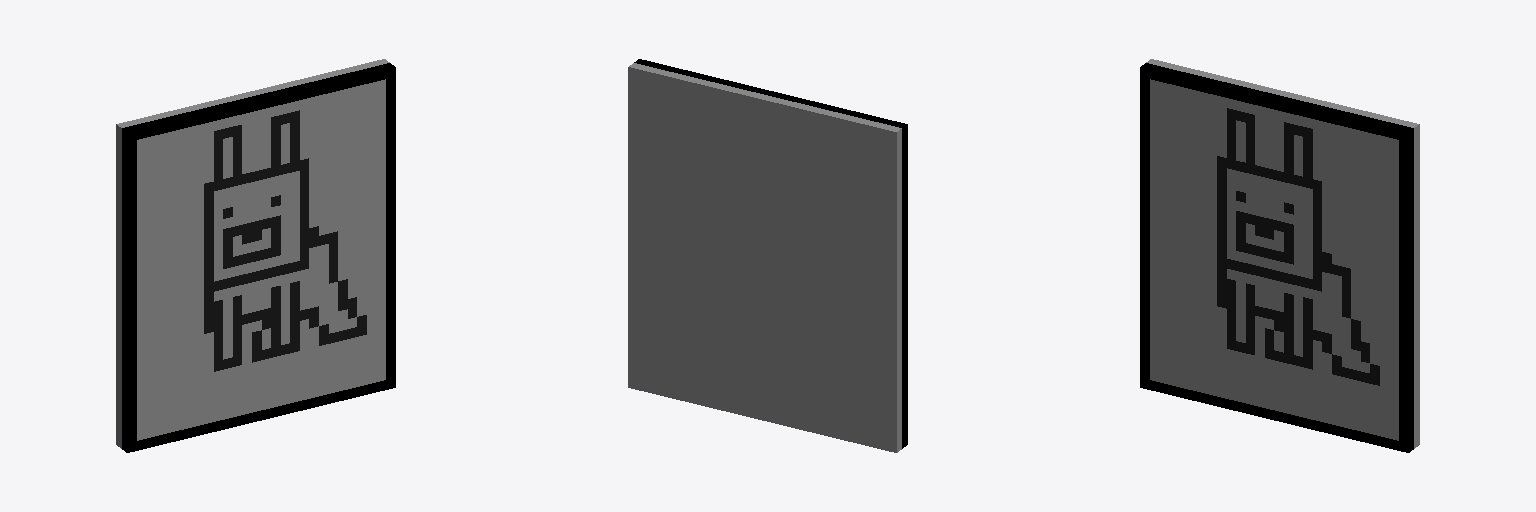
The picture shows the model from 3 angles: view 1: azimuth 30°, elevation 25°; view 2: azimuth 150°, elevation 25°; view 3: azimuth 330°, elevation 25°; orthographic projection.
Visible parts, largest first — view 1: object 1; view 2: object 1; view 3: object 1.
Boxes of the visible parts, x1,y1,x2,y2 form: object 1: [116, 59, 395, 452]; object 1: [628, 59, 907, 452]; object 1: [1140, 59, 1419, 452].
Bounding box in the file's own units: 2.8 × 3.2 × 0.2.
1 materials, 1 textured.